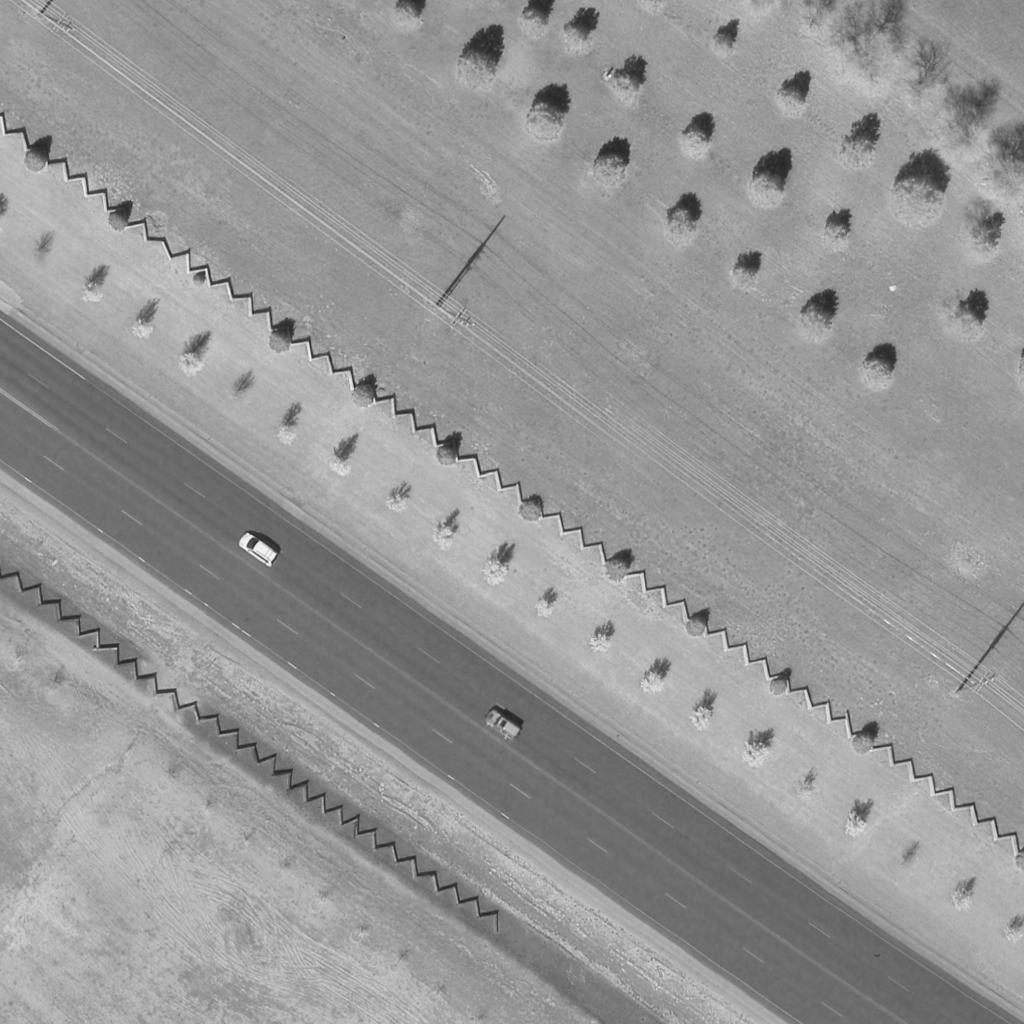vehicle: (237, 531, 277, 567), (482, 706, 520, 742)
